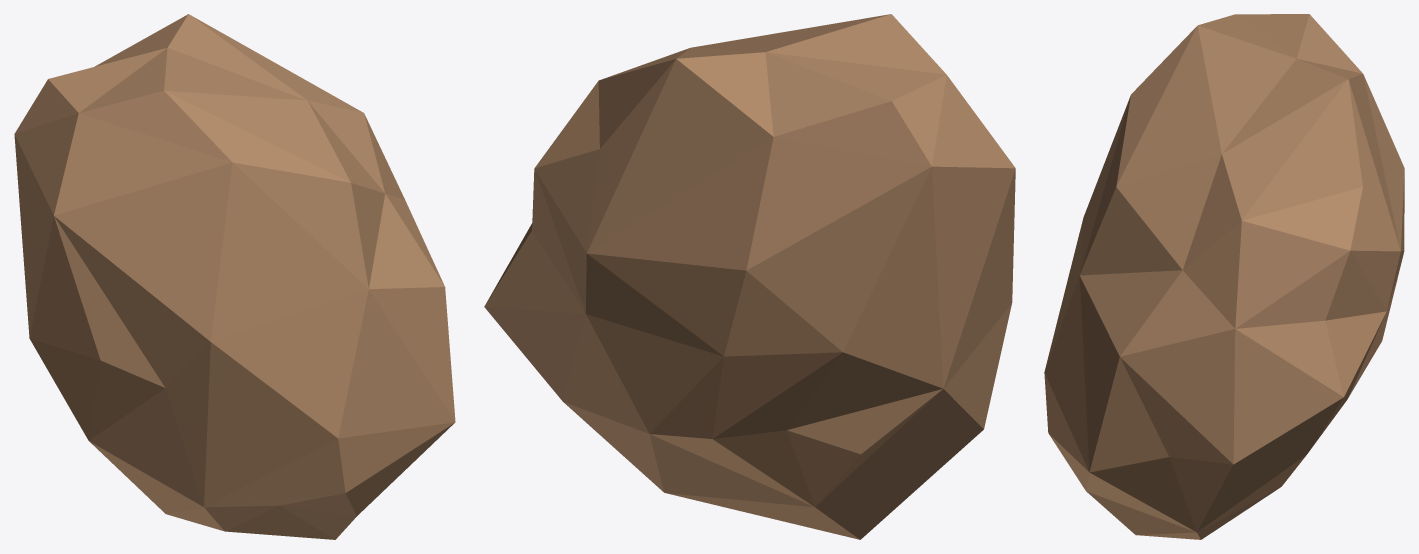
File: Boulder_08_Massive.fbx
3 views of the same model, side by side, from view 1: azimuth 30°, elevation 25°; view 2: azimuth 150°, elevation 25°; view 3: azimuth 270°, elevation 25° (orthographic). The views are drawn at different scales.
Visible parts, largest first — view 1: Boulder_08_Massive; view 2: Boulder_08_Massive; view 3: Boulder_08_Massive.
Boxes of the visible parts, x1,y1,x2,y2 form: Boulder_08_Massive: (14,14,455,539); Boulder_08_Massive: (484,14,1015,539); Boulder_08_Massive: (1044,14,1404,539).
Size of the model in its own units: 3.67 by 4.08 by 3.
